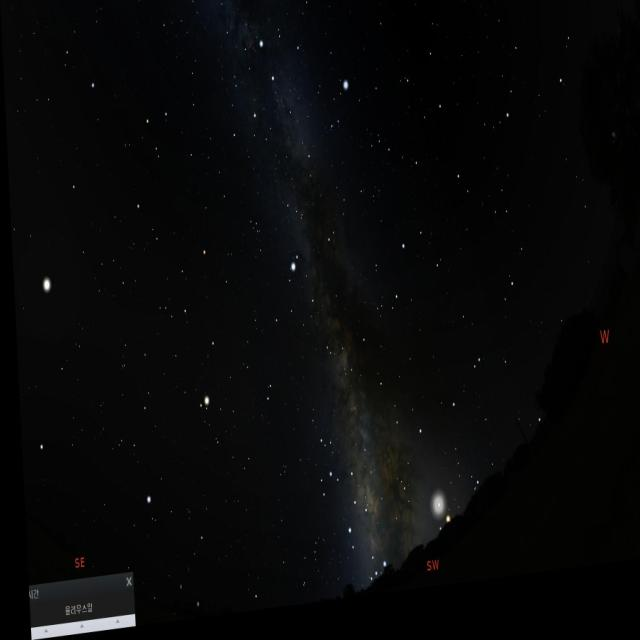aquila: (263, 254, 338, 388)
cygnus: (246, 29, 315, 199)
lyra: (310, 82, 359, 154)
moon: (416, 481, 455, 538)
sagittarius: (310, 447, 371, 567)
